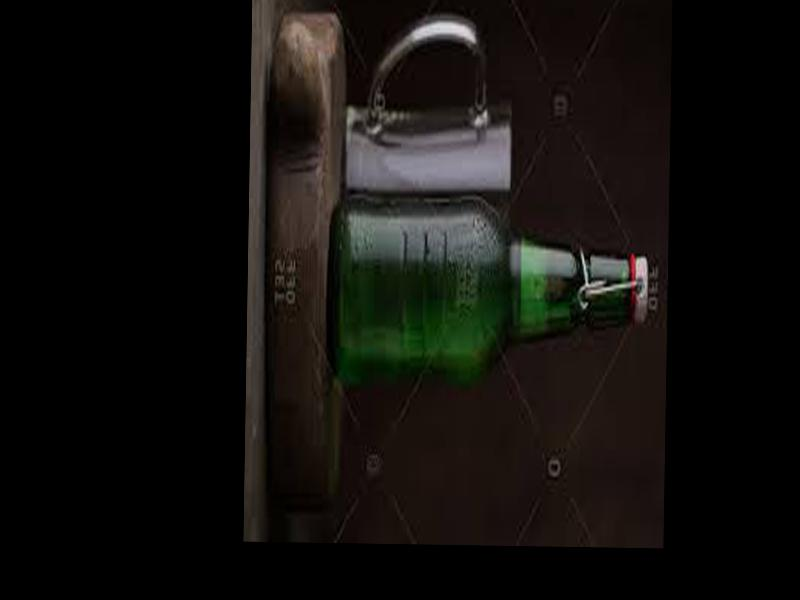Beer: (326, 199, 648, 382)
